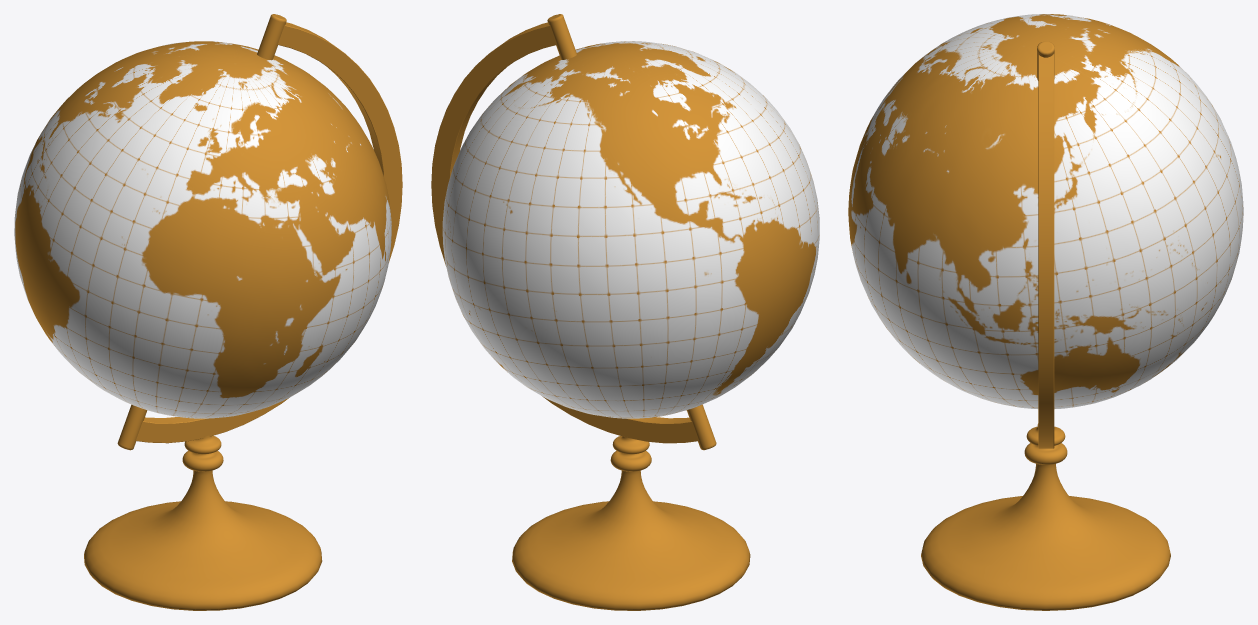
Rendered from golden_globe_decoration.glb.
3 renders of one model, left to right at view 1: azimuth 30°, elevation 25°; view 2: azimuth 150°, elevation 25°; view 3: azimuth 270°, elevation 25°, orthographic. The views are drawn at different scales.
Parts seen in each view (by area): view 1: Globe_2_0, Globe_2, Globe_3_3, Globe_1_1; view 2: Globe_2_0, Globe_2, Globe_3_3, Globe_1_1; view 3: Globe_2_0, Globe_2, Globe_3_3.
Boxes of the visible parts, bbox=[...] form: Globe_2_0: bbox=[14, 41, 391, 418]; Globe_2: bbox=[84, 435, 322, 610]; Globe_3_3: bbox=[136, 22, 402, 443]; Globe_1_1: bbox=[117, 14, 286, 450]; Globe_2_0: bbox=[442, 41, 819, 418]; Globe_2: bbox=[512, 436, 750, 610]; Globe_3_3: bbox=[431, 22, 699, 443]; Globe_1_1: bbox=[547, 14, 716, 450]; Globe_2_0: bbox=[848, 14, 1243, 409]; Globe_2: bbox=[921, 423, 1170, 610]; Globe_3_3: bbox=[1038, 54, 1054, 448].
Size of the model in its own units: 2.2 by 3.12 by 2.
Materials: 1 (1 with a texture image).
